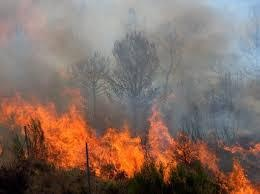fire: (22, 82, 258, 180)
